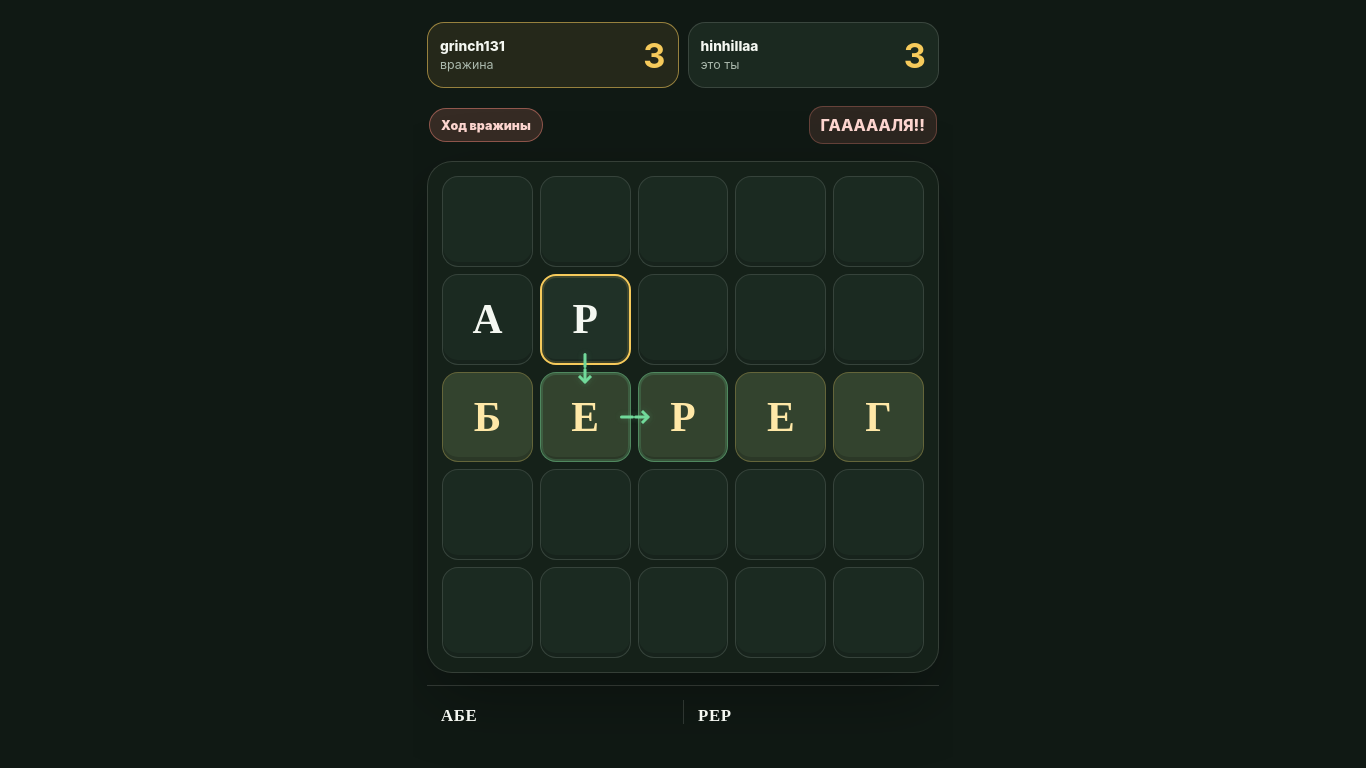
Test: GameScreen › activates after a completed press and rates a word on its second click
Click the button "АБЕ". click: (459, 716)
box: [441,706,477,726]
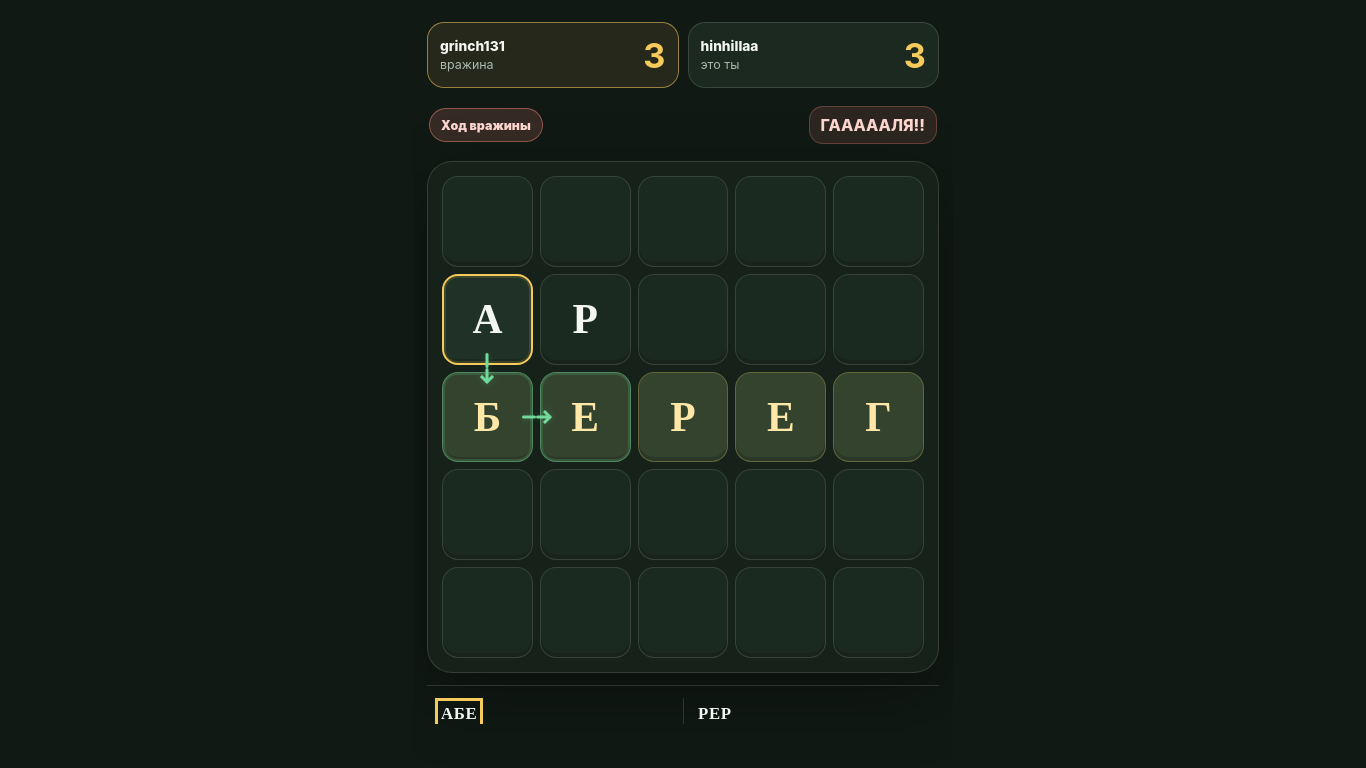
Check: the cell named "Клетка 1, 0, буква А" has class "is-last-path" "is-last-letter", box [442,274,533,365]
Click the button "АБЕ". click: (459, 714)
box: [441,704,477,724]
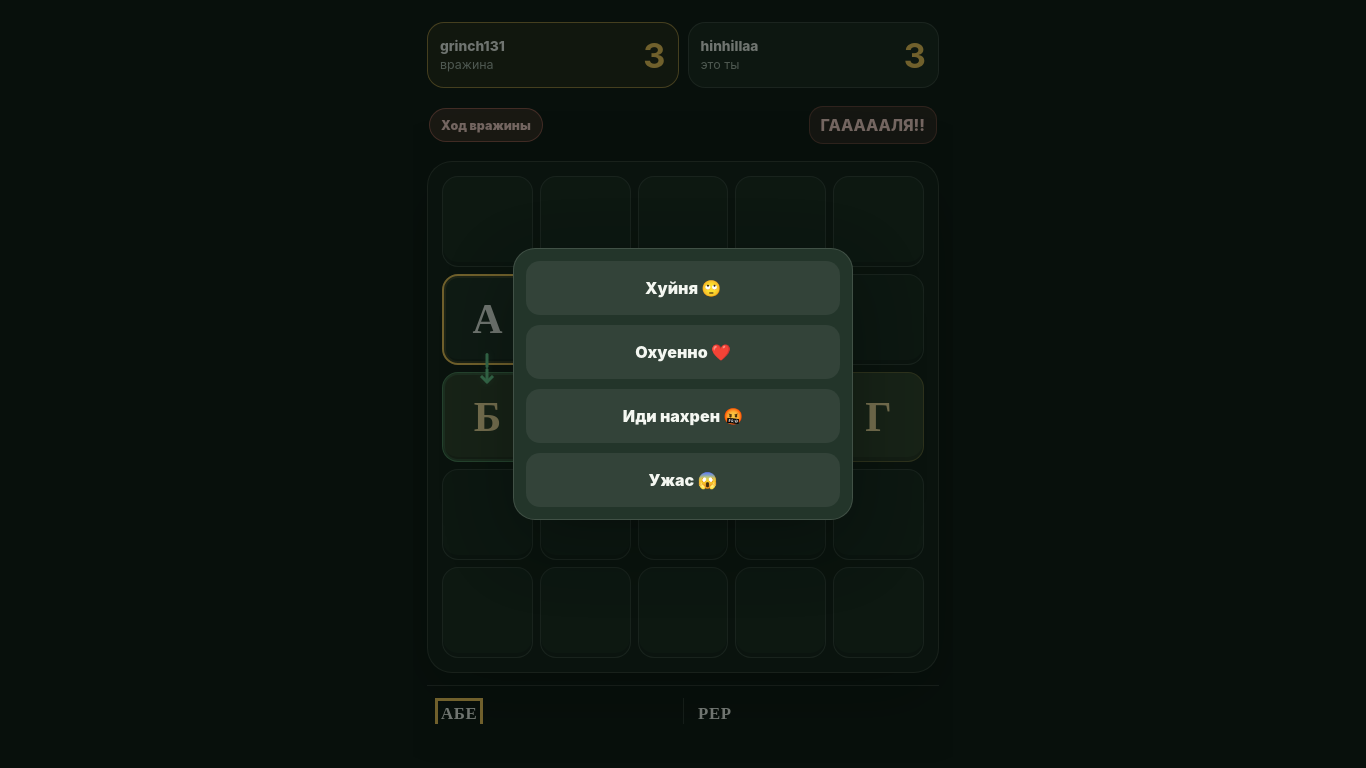
Check: the dialog named "Оценить слово АБЕ" is shown, box [513,248,853,520]
Click the element with class "rating-backdrop". click: (82, 384)
box: [0,0,1365,767]
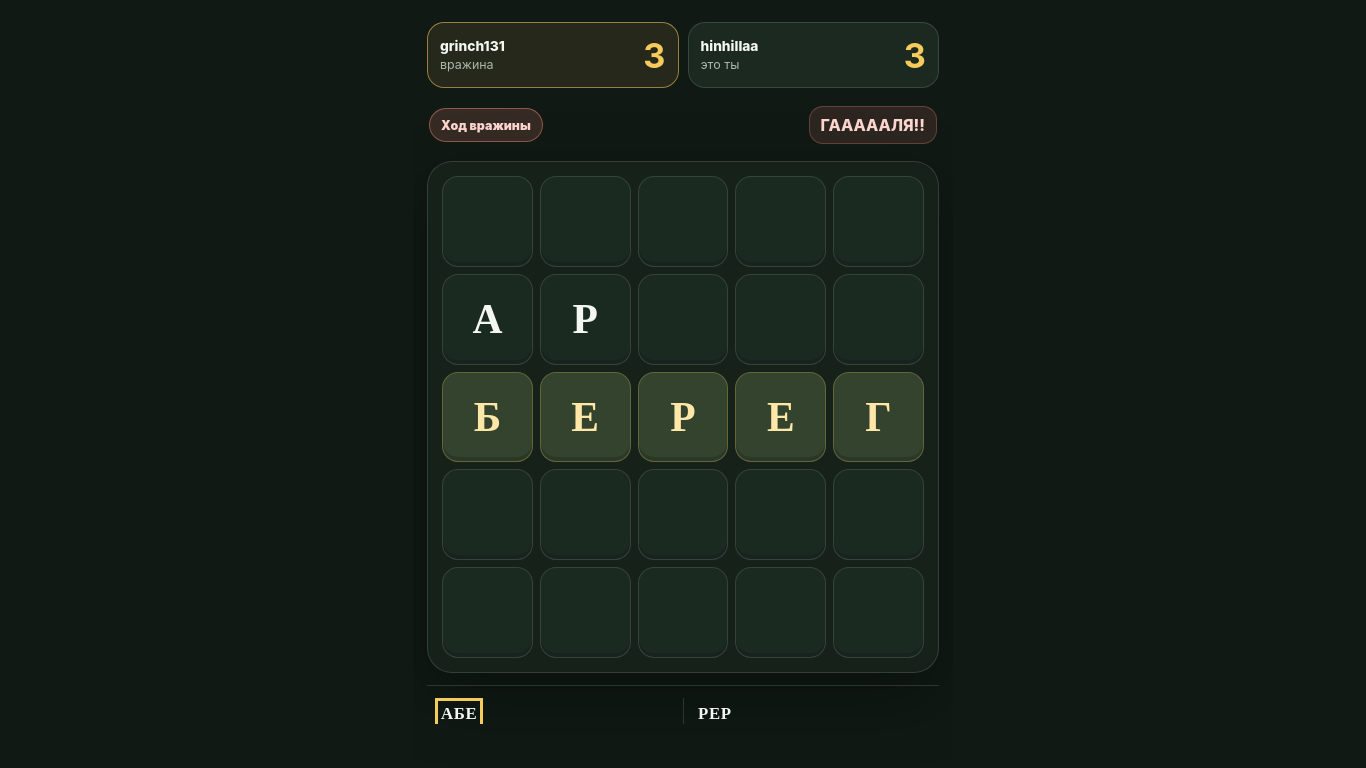
Check: the dialog is gone
Click the button "АБЕ". click: (459, 714)
box: [441,704,477,724]
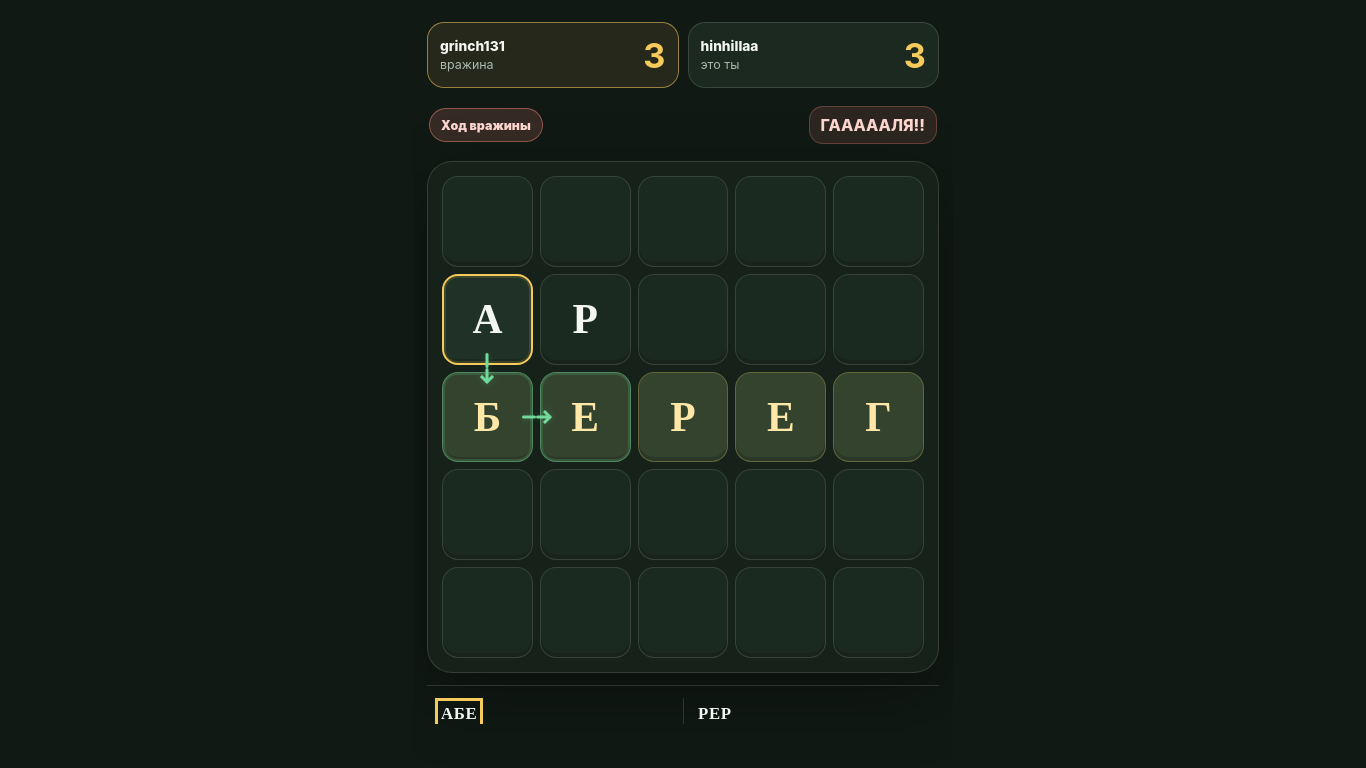
Click the button "АБЕ". click: (459, 714)
box: [441,704,477,724]
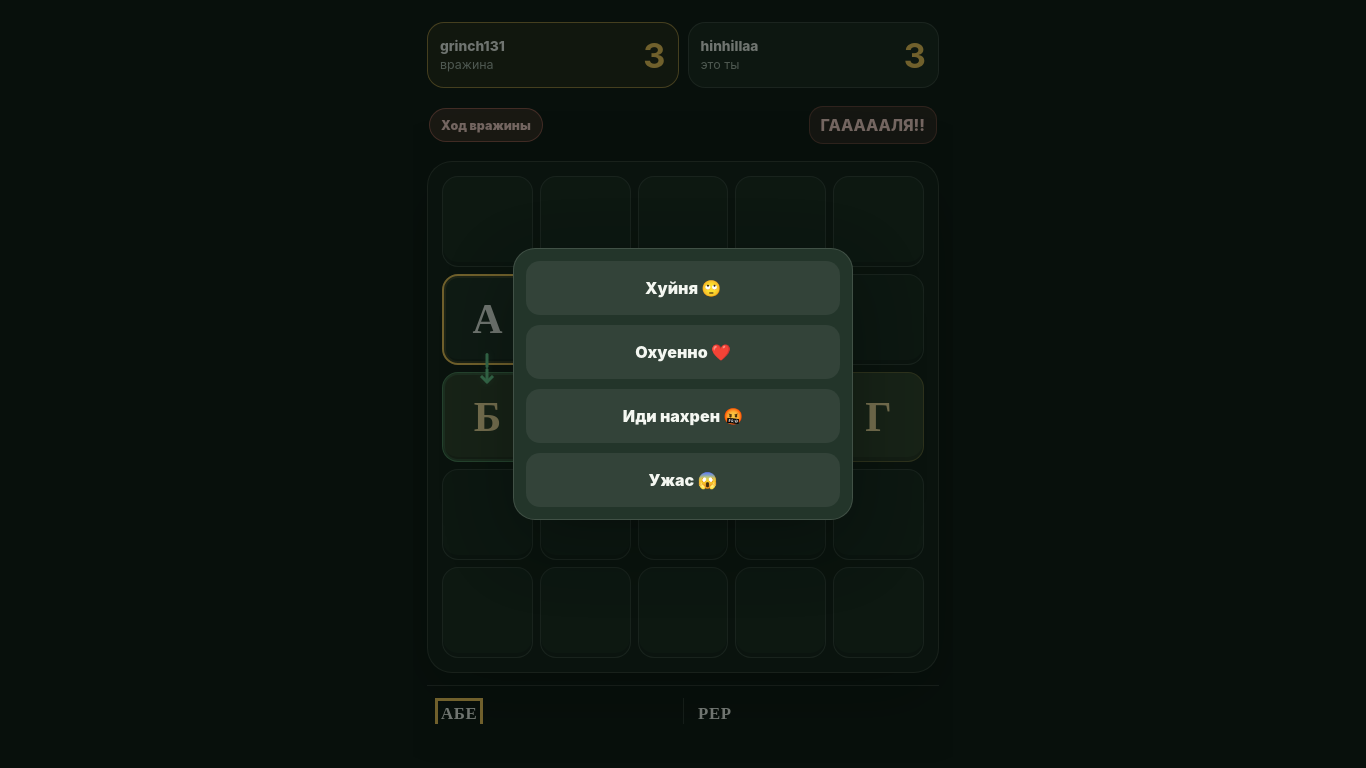
Click the button "Ужас 😱". click: (683, 480)
box: [526,453,840,507]
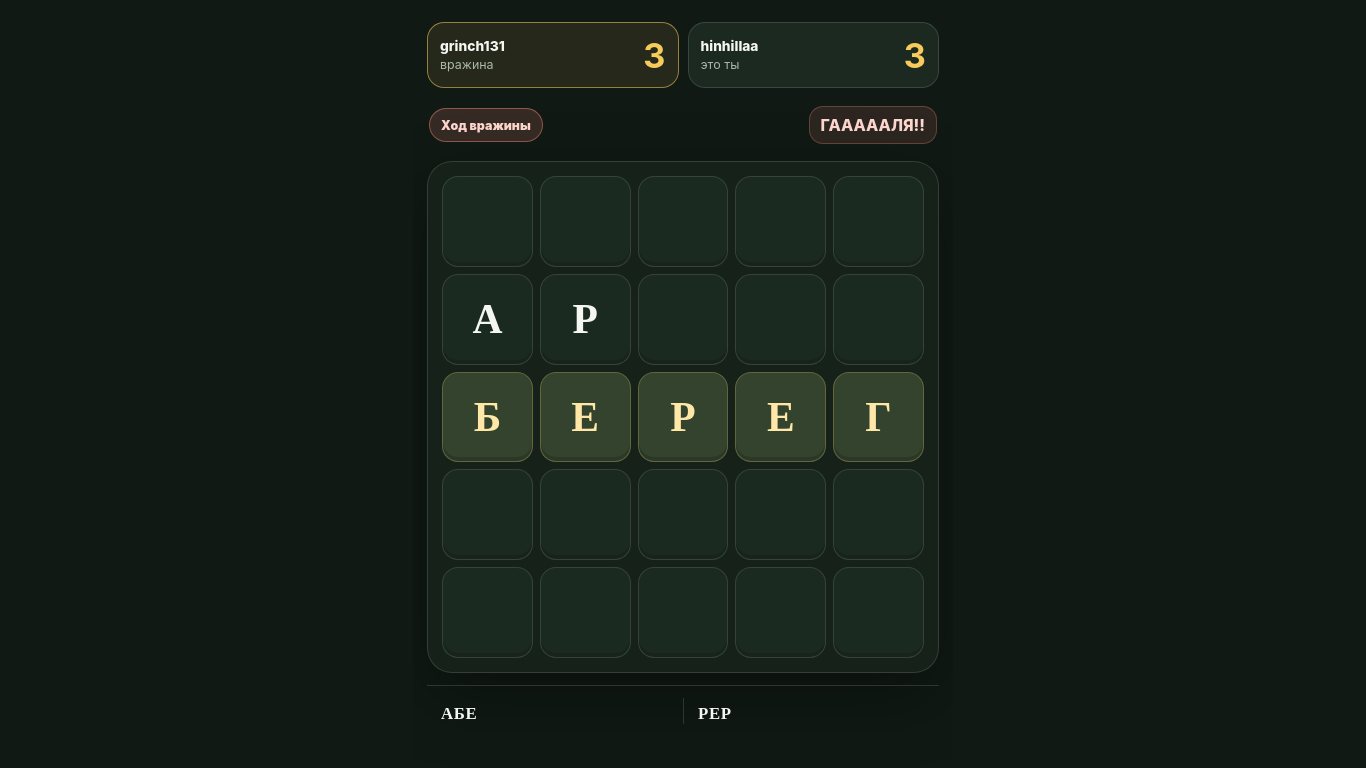
Check: the dialog is gone
